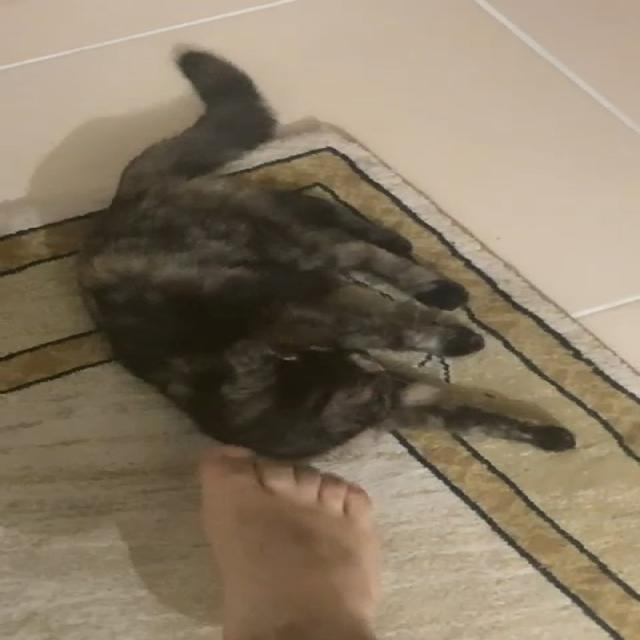authorized: (71, 43, 576, 462)
